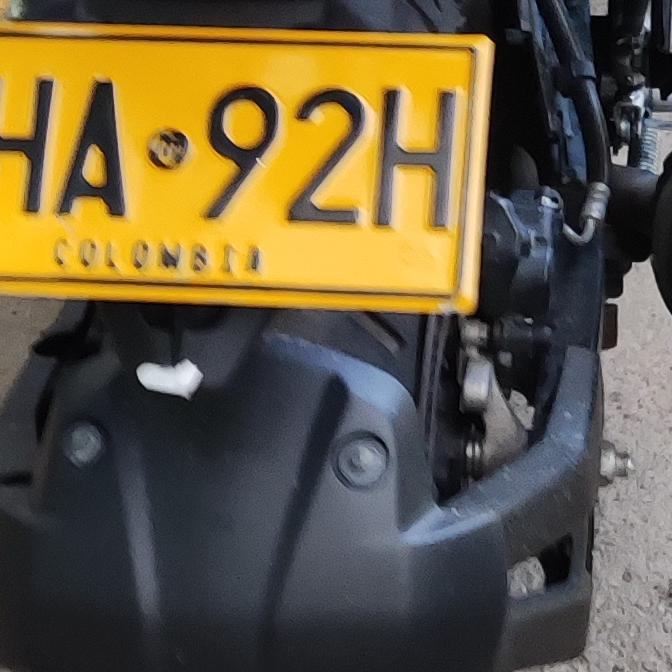plates: (0, 25, 496, 312)
